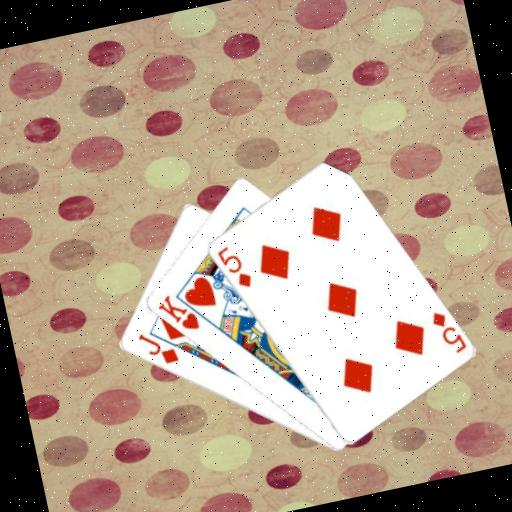5D: (426, 303, 469, 359), (212, 239, 254, 294)
JD: (133, 323, 181, 371)
KH: (151, 287, 201, 339)
